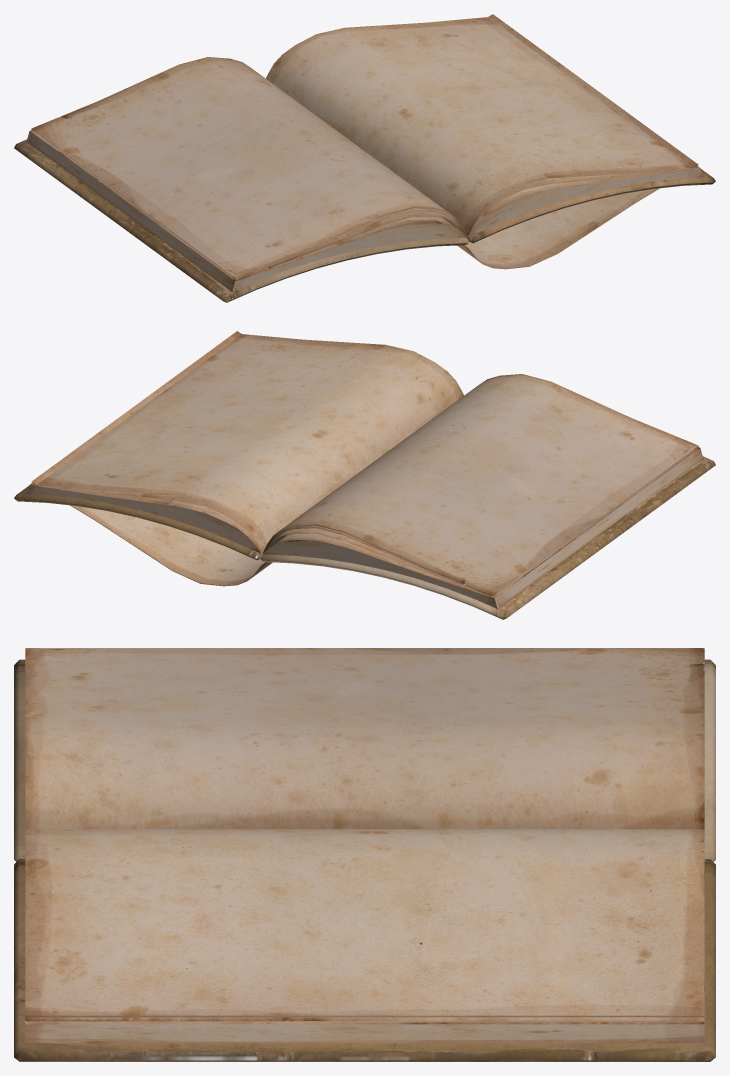
Rendered from OpenBook.FBX.
The picture shows the model from 3 angles, top to bottom: view 1: azimuth 30°, elevation 25°; view 2: azimuth 150°, elevation 25°; view 3: azimuth 270°, elevation 25°; orthographic projection. The views are drawn at different scales.
Parts seen in each view (by area): view 1: PageR2, PageL1, PageR1, PageGroupL, FrontBook, PageGroupR, BackBook, PageL3, PageR3, PageL2; view 2: PageR2, PageL1, PageR1, PageGroupL, FrontBook, PageGroupR, BackBook, PageL3, PageR3, PageL2; view 3: PageR2, PageL1, BackBook, PageGroupR, FrontBook, PageR1, PageR3.
Boxes of the visible parts, x1=… form: PageR2: x1=266, y1=17, x2=698, y2=236; PageL1: x1=31, y1=57, x2=466, y2=279; PageR1: x1=457, y1=14, x2=698, y2=269; PageGroupL: x1=26, y1=130, x2=467, y2=291; FrontBook: x1=14, y1=139, x2=469, y2=302; PageGroupR: x1=468, y1=166, x2=703, y2=236; BackBook: x1=466, y1=169, x2=715, y2=243; PageL3: x1=31, y1=129, x2=467, y2=280; PageR3: x1=469, y1=167, x2=698, y2=234; PageL2: x1=31, y1=129, x2=466, y2=279; PageR2: x1=31, y1=334, x2=463, y2=553; PageL1: x1=263, y1=374, x2=698, y2=596; PageR1: x1=31, y1=331, x2=272, y2=586; PageGroupL: x1=262, y1=447, x2=703, y2=608; FrontBook: x1=260, y1=456, x2=715, y2=619; PageGroupR: x1=26, y1=483, x2=261, y2=553; BackBook: x1=14, y1=486, x2=263, y2=560; PageL3: x1=262, y1=446, x2=698, y2=597; PageR3: x1=31, y1=484, x2=260, y2=551; PageL2: x1=263, y1=446, x2=698, y2=596; PageR2: x1=25, y1=829, x2=704, y2=1021; PageL1: x1=25, y1=648, x2=704, y2=829; BackBook: x1=14, y1=859, x2=715, y2=1061; PageGroupR: x1=25, y1=1022, x2=704, y2=1043; FrontBook: x1=14, y1=659, x2=715, y2=861; PageR1: x1=25, y1=1015, x2=704, y2=1017; PageR3: x1=25, y1=1021, x2=704, y2=1022.
Size of the model in its own units: 41.47 by 7.04 by 31.
